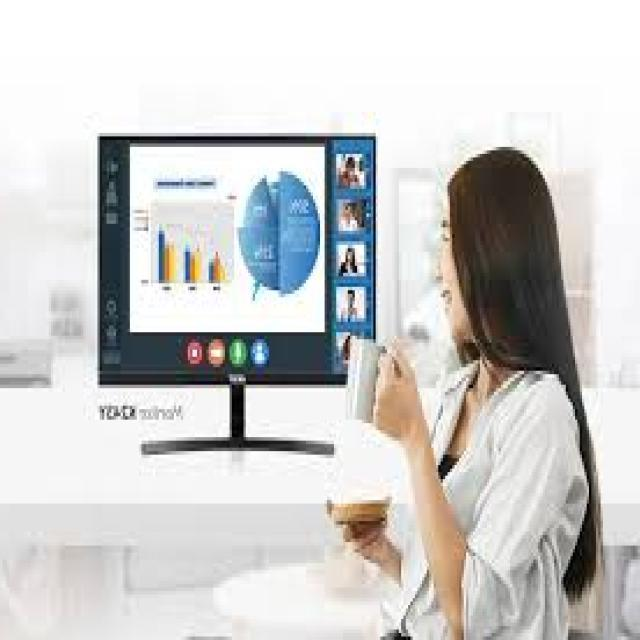monitor: (82, 117, 416, 467)
